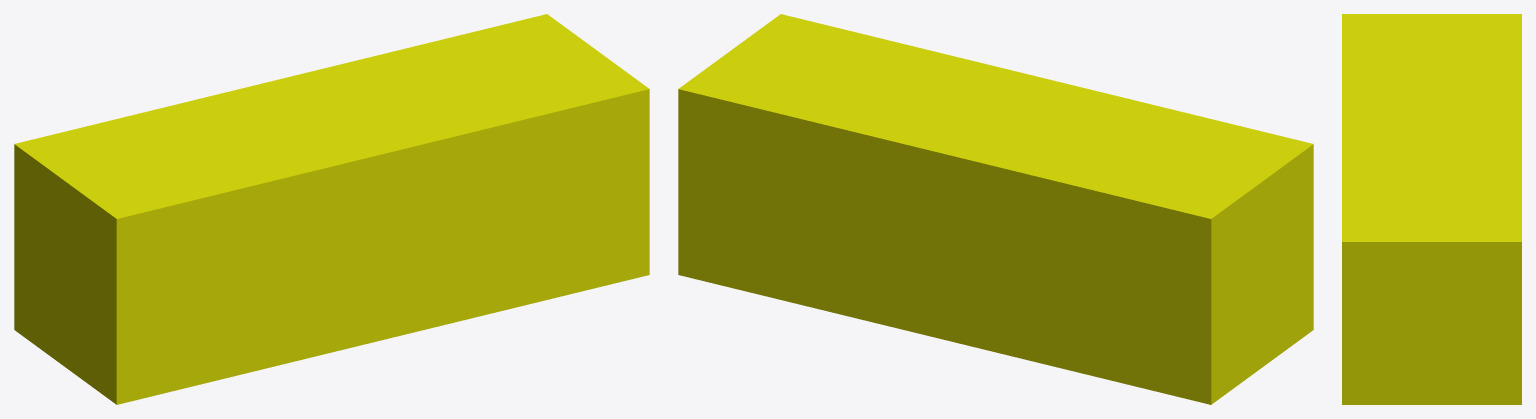
Rendered from Bullet.glb.
The picture shows the model from 3 angles, left to right: view 1: azimuth 30°, elevation 25°; view 2: azimuth 150°, elevation 25°; view 3: azimuth 270°, elevation 25°; orthographic projection. The views are drawn at different scales.
Visible parts, largest first — view 1: Cube; view 2: Cube; view 3: Cube.
Part boxes in pixels (bbox=[...]): Cube: bbox=[14, 14, 649, 404]; Cube: bbox=[678, 14, 1313, 404]; Cube: bbox=[1342, 14, 1521, 404].
Size of the model in its own units: 12 by 4 by 4.
